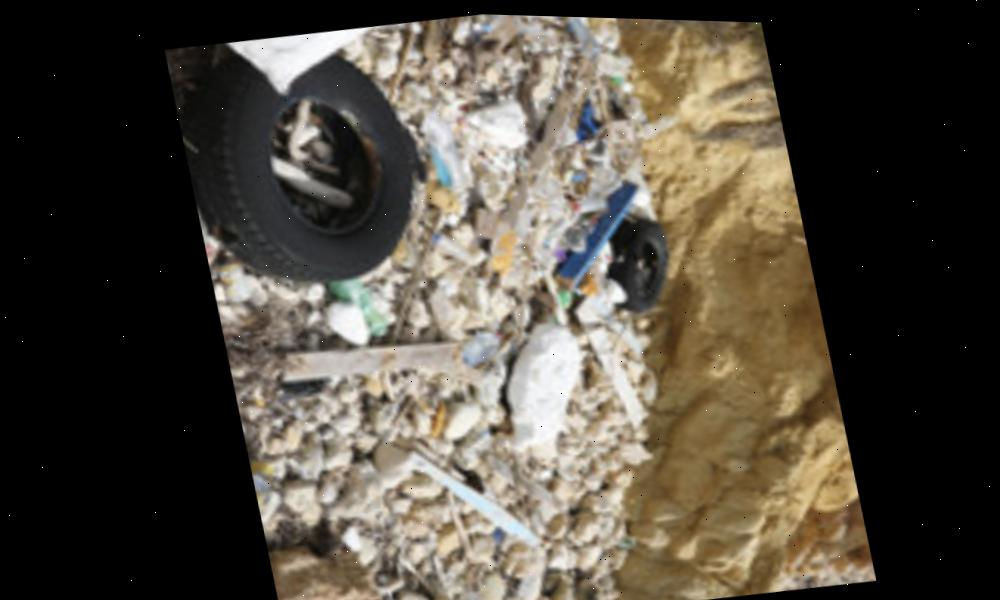plastic bag: (162, 13, 424, 110)
styrofoam: (473, 296, 609, 467)
tire: (175, 17, 440, 309), (580, 189, 695, 327)
